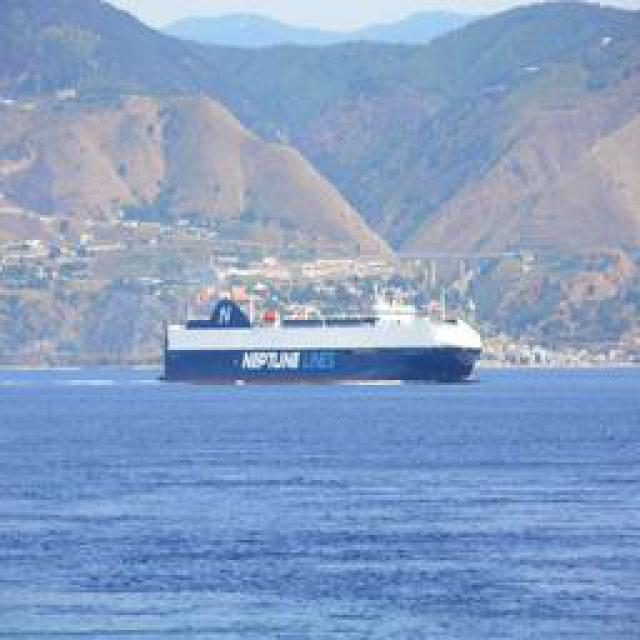Ship: (156, 294, 484, 387)
